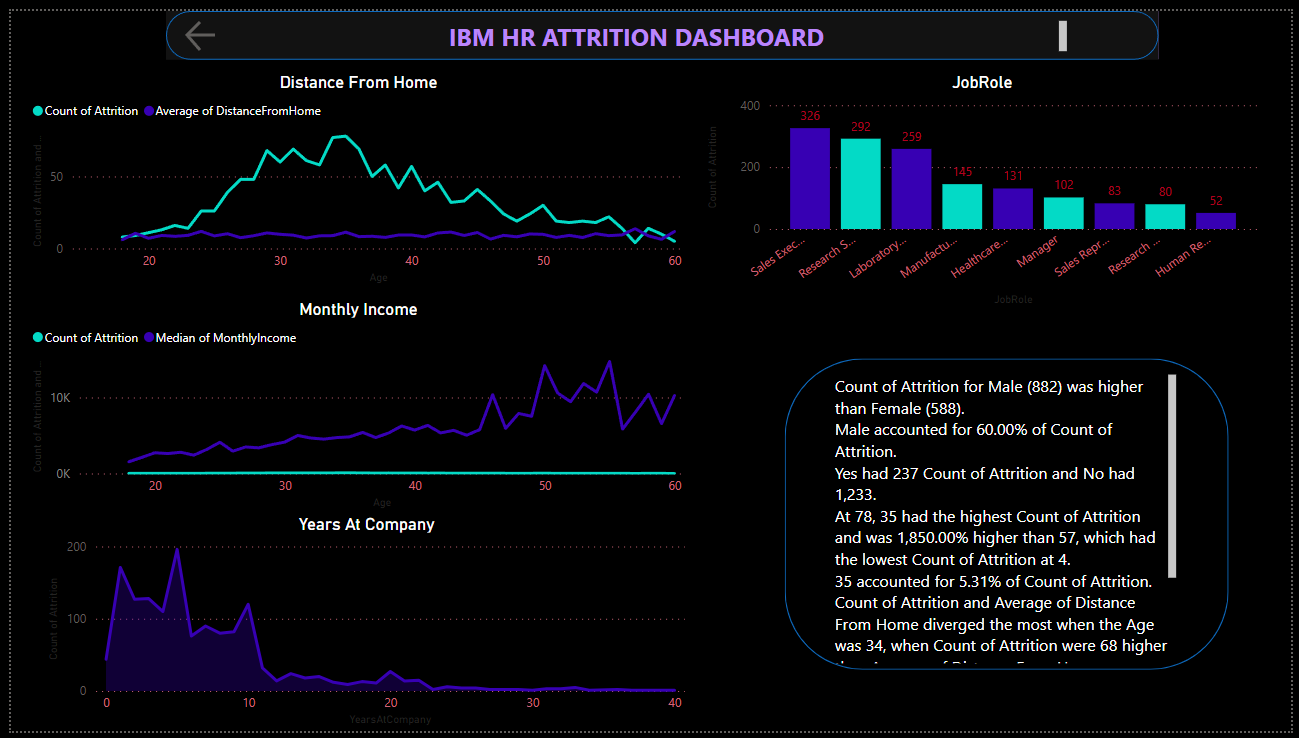

This screenshot's page, from the dashboard's own definition file:
{"tool":"powerbi","page":{"name":"Page 2","canvas":[1280,720],"ordinal":1},"visuals":[{"type":"shape","box":[155.5,0,992.5,48.8],"z":0,"group":"g1"},{"type":"lineChart","title":"Distance From Home ","fields":{"Category":["HR-Employee-Attrition.Age"],"Y":["CountNonNull(HR-Employee-Attrition.Attrition)","Avg(HR-Employee-Attrition.DistanceFromHome)"]},"box":[16.2,61.2,662.5,216.2],"z":0},{"type":"group","id":"g1","title":"Group 1","box":[155.5,0,992.5,48.8],"z":1000},{"type":"textbox","box":[198,5,863.8,41.2],"z":1000,"group":"g1"},{"type":"columnChart","title":"JobRole","fields":{"Category":["HR-Employee-Attrition.JobRole"],"Y":["CountNonNull(HR-Employee-Attrition.Attrition)"]},"box":[691.2,61.2,560,238.8],"z":2000},{"type":"areaChart","title":"Years At Company","fields":{"Category":["HR-Employee-Attrition.YearsAtCompany"],"Y":["CountNonNull(HR-Employee-Attrition.Attrition)"]},"box":[32.5,502.5,646.2,217.5],"z":3000},{"type":"lineChart","title":"Monthly Income","fields":{"Category":["HR-Employee-Attrition.Age"],"Y":["CountNonNull(HR-Employee-Attrition.Attrition)","Median(HR-Employee-Attrition.MonthlyIncome)"]},"box":[16.2,287.5,662.5,215],"z":4000},{"type":"shape","box":[773.8,347.5,443.8,311.2],"z":5000,"group":"g2"},{"type":"textbox","box":[819.1,358.1,351.2,298.8],"z":6000,"group":"g2"},{"type":"group","id":"g2","title":"Group 2","box":[773.8,347.5,443.8,311.2],"z":6001},{"type":"actionButton","box":[170,5,55,40],"z":6002}]}

Visuals, with their boxes in screenshot pixels (x1, y1, x2, y2), scaled from the page's 1280x720 canvas onto the 1299x738 screenshot:
shape: x1=158, y1=0, x2=1165, y2=50
"Distance From Home " lineChart: x1=16, y1=63, x2=689, y2=284
"Group 1" group: x1=158, y1=0, x2=1165, y2=50
textbox: x1=201, y1=5, x2=1078, y2=47
"JobRole" columnChart: x1=701, y1=63, x2=1270, y2=308
"Years At Company" areaChart: x1=33, y1=515, x2=689, y2=737
"Monthly Income" lineChart: x1=16, y1=295, x2=689, y2=515
shape: x1=785, y1=356, x2=1236, y2=675
textbox: x1=831, y1=367, x2=1188, y2=673
"Group 2" group: x1=785, y1=356, x2=1236, y2=675
actionButton: x1=173, y1=5, x2=228, y2=46
